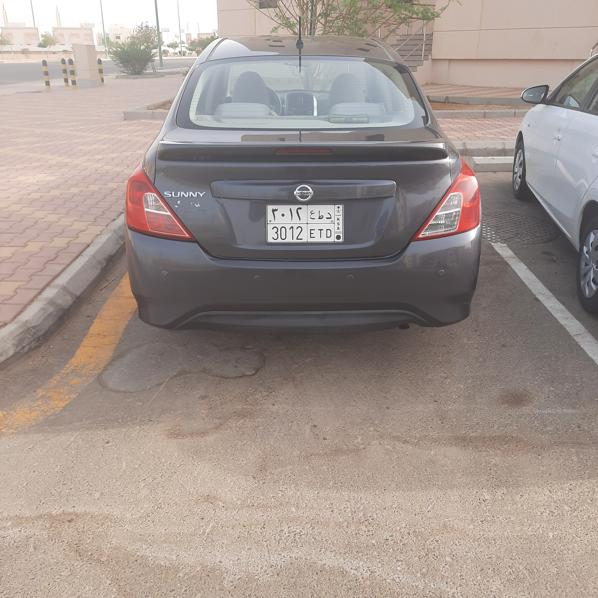numberplate: (267, 205, 345, 242)
